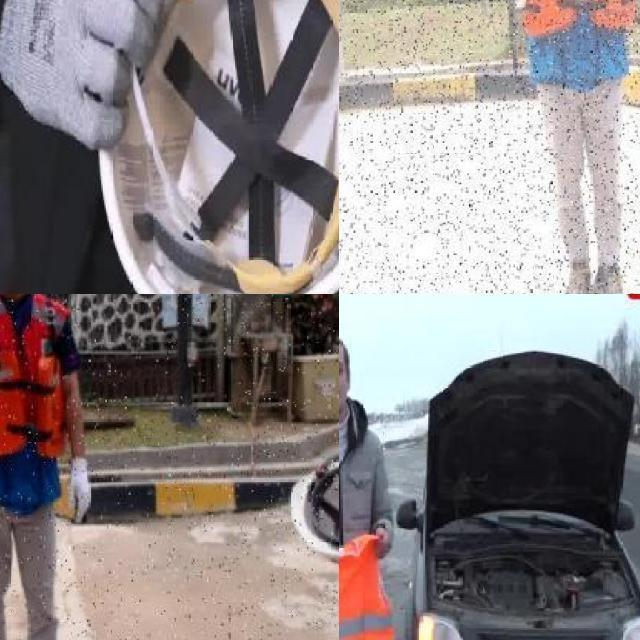apron: (0, 0, 163, 152), (64, 456, 94, 524)
